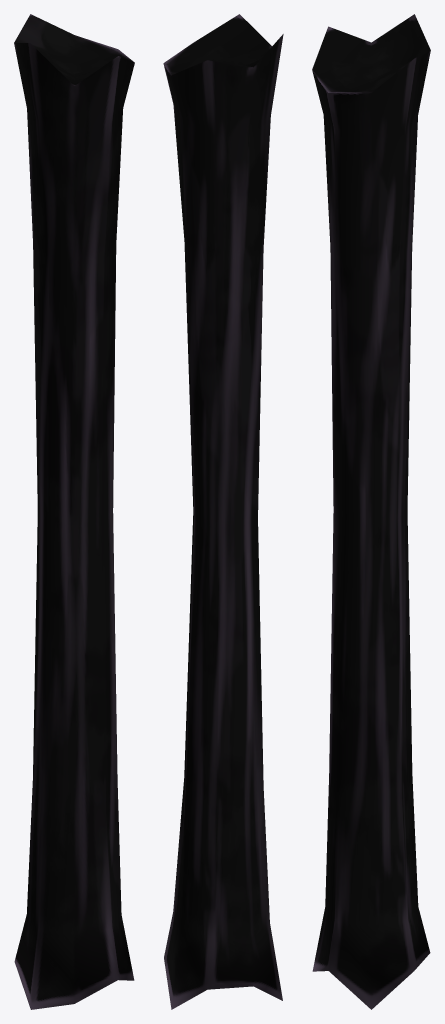
File: Log_Rubble.fbx
3 renders of one model, left to right at view 1: azimuth 90°, elevation 25°; view 2: azimuth 210°, elevation 25°; view 3: azimuth 270°, elevation 25°, orthographic.
Visible parts, largest first — view 1: Log1_LowPoly; view 2: Log1_LowPoly; view 3: Log1_LowPoly.
Part boxes in pixels (x1,y1,x2,y2): Log1_LowPoly: (14,14,134,1009); Log1_LowPoly: (163,14,283,1009); Log1_LowPoly: (312,14,430,1009).
Bounding box in the file's own units: 59.83 × 529 × 59.83.
